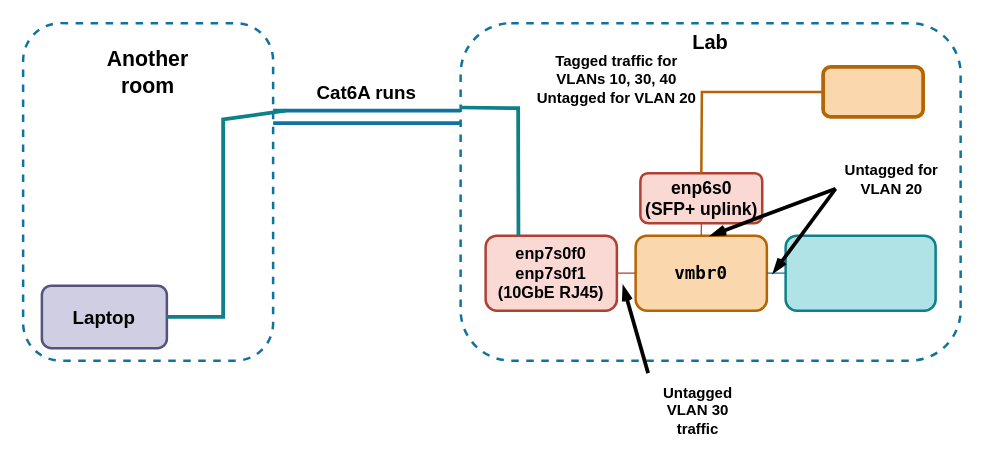
This 983x469 diagram has some shape labels left out. Here are the shapes that lost their labels. From the top down, the centre of each, then its label:
At (x=872, y=91): "CRS326".
At (x=860, y=272): "Proxmox VE 10.100.10.18/28".
